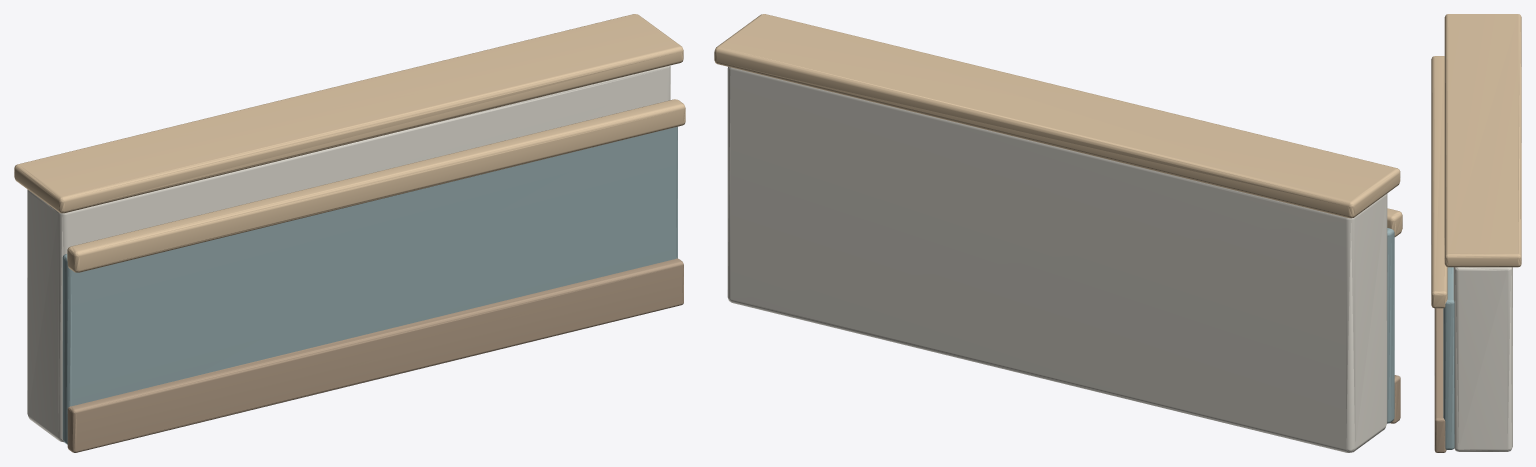
The model's file is WallLow.fbx.
The picture shows the model from 3 angles, left to right: view 1: azimuth 30°, elevation 25°; view 2: azimuth 150°, elevation 25°; view 3: azimuth 270°, elevation 25°; orthographic projection. The views are drawn at different scales.
Visible parts, largest first — view 1: WallLow; view 2: WallLow; view 3: WallLow.
Boxes of the visible parts, bbox=[...] form: WallLow: bbox=[14, 14, 685, 452]; WallLow: bbox=[714, 14, 1402, 452]; WallLow: bbox=[1431, 14, 1521, 452].
Bounding box in the file's own units: 1.94 × 0.75 × 0.3055.
